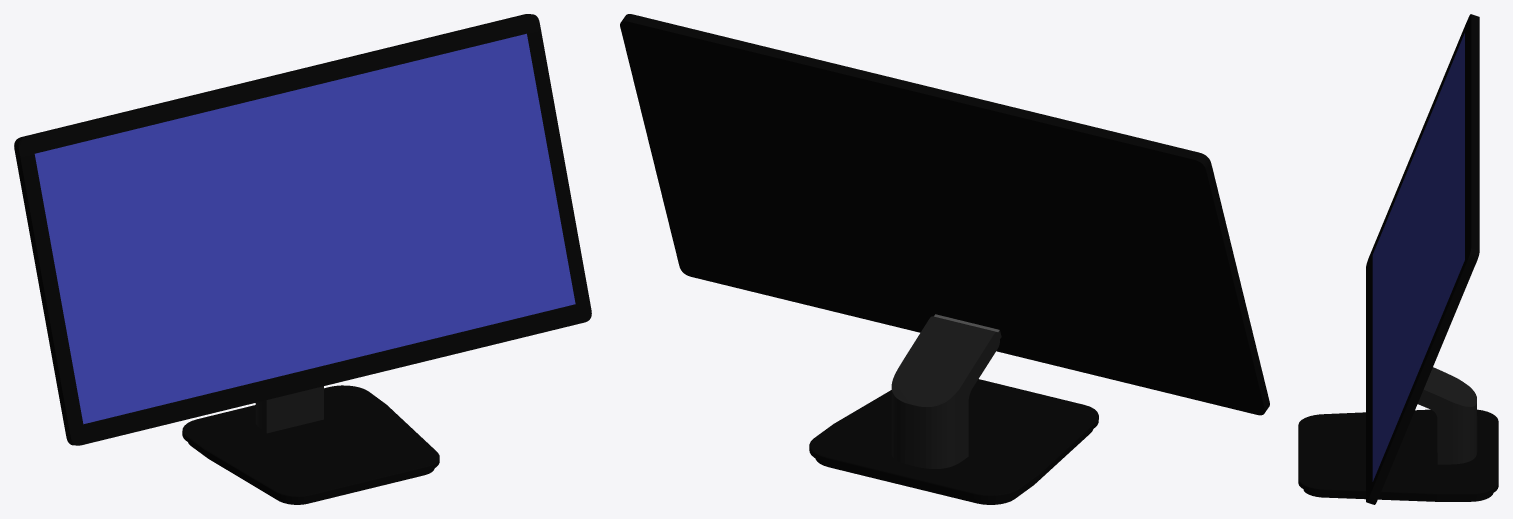
Rendered from monitor_pc.FBX.
3 renders of one model, left to right at view 1: azimuth 30°, elevation 25°; view 2: azimuth 150°, elevation 25°; view 3: azimuth 270°, elevation 25°, orthographic. The views are drawn at different scales.
Parts seen in each view (by area): view 1: Rectangle0; view 2: Rectangle0; view 3: Rectangle0.
Part boxes in pixels (box(x1,y1,x2,y2)): Rectangle0: box(14, 14, 591, 504); Rectangle0: box(620, 14, 1269, 504); Rectangle0: box(1298, 14, 1498, 504).
Size of the model in its own units: 224 by 143 by 78.74.
